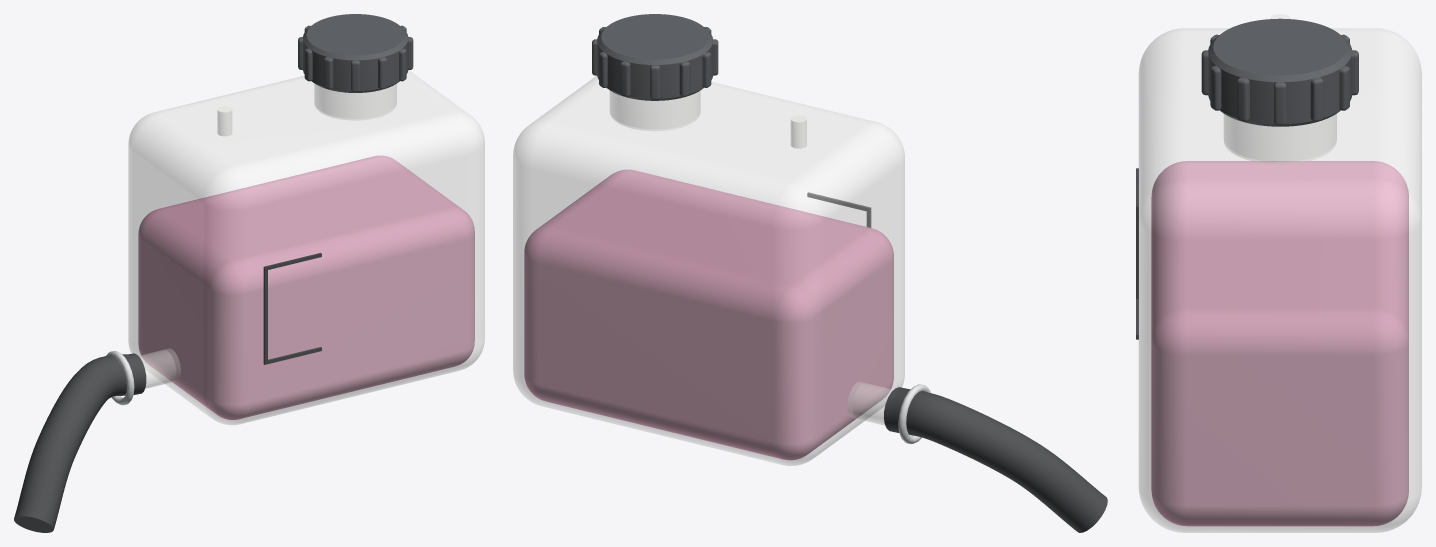
File: coolant_reservoir.glb
The picture shows the model from 3 angles, left to right: view 1: azimuth 30°, elevation 25°; view 2: azimuth 150°, elevation 25°; view 3: azimuth 270°, elevation 25°; orthographic projection. The views are drawn at different scales.
Parts seen in each view (by area): view 1: tank, coolant, hose, cap, level_marks; view 2: tank, coolant, hose, cap; view 3: tank, coolant, cap, level_marks.
Boxes of the visible parts, <box> form: tank: <box>128,70,484,424</box>; coolant: <box>138,155,474,419</box>; hose: <box>14,351,146,532</box>; cap: <box>298,14,413,92</box>; level_marks: <box>263,253,321,364</box>; tank: <box>513,76,904,465</box>; coolant: <box>524,169,893,460</box>; hose: <box>884,384,1107,532</box>; cap: <box>592,14,718,100</box>; tank: <box>1139,14,1421,532</box>; coolant: <box>1151,161,1408,526</box>; cap: <box>1201,18,1358,126</box>; level_marks: <box>1136,168,1138,339</box>.
Size of the model in its own units: 284 by 227 by 111.
